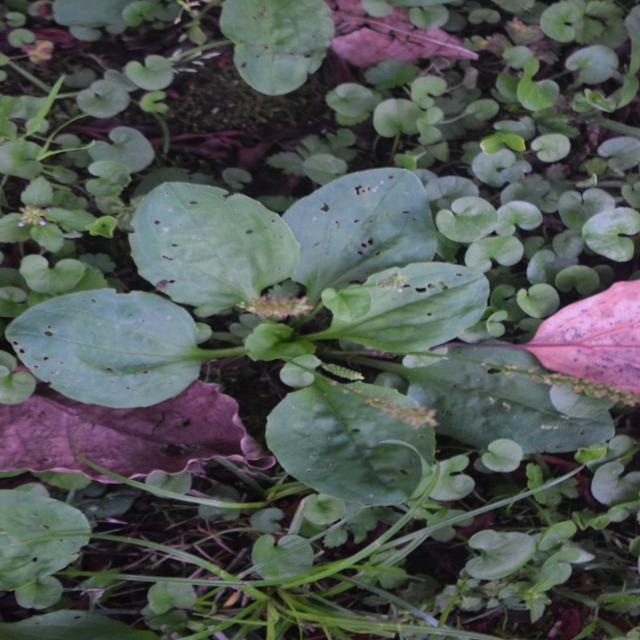plantain: (145, 36, 473, 568)
